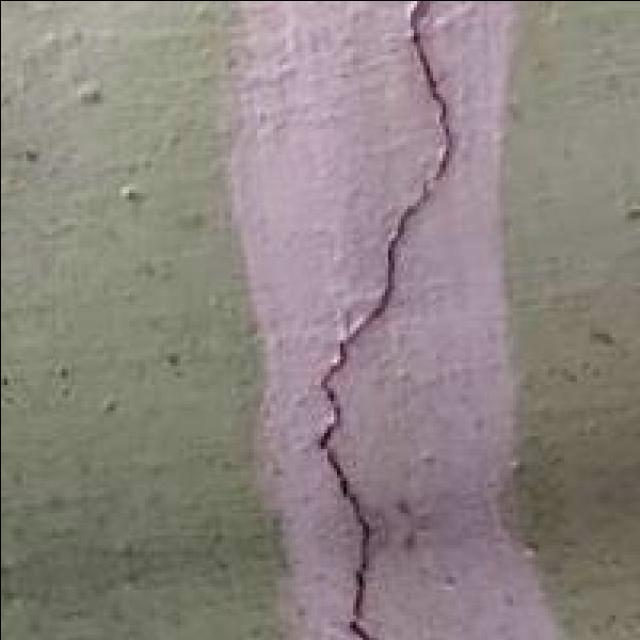SurfaceCrack: (252, 0, 512, 640)
